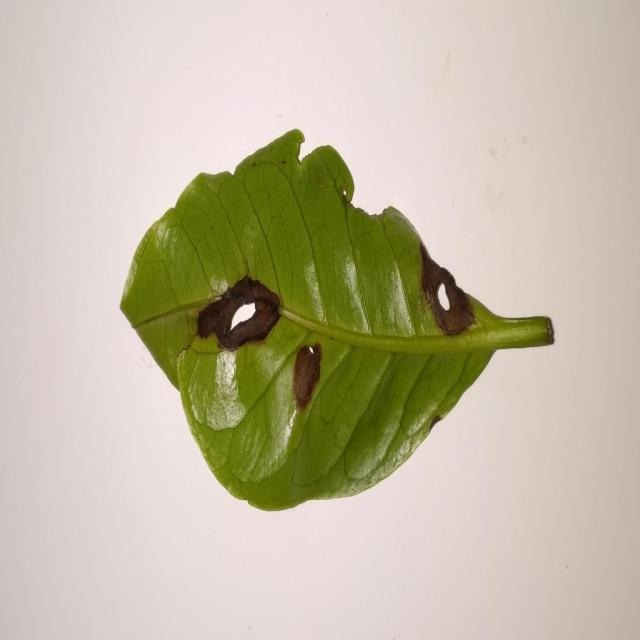Enfermedad-Antracnosis: (119, 130, 556, 515)
